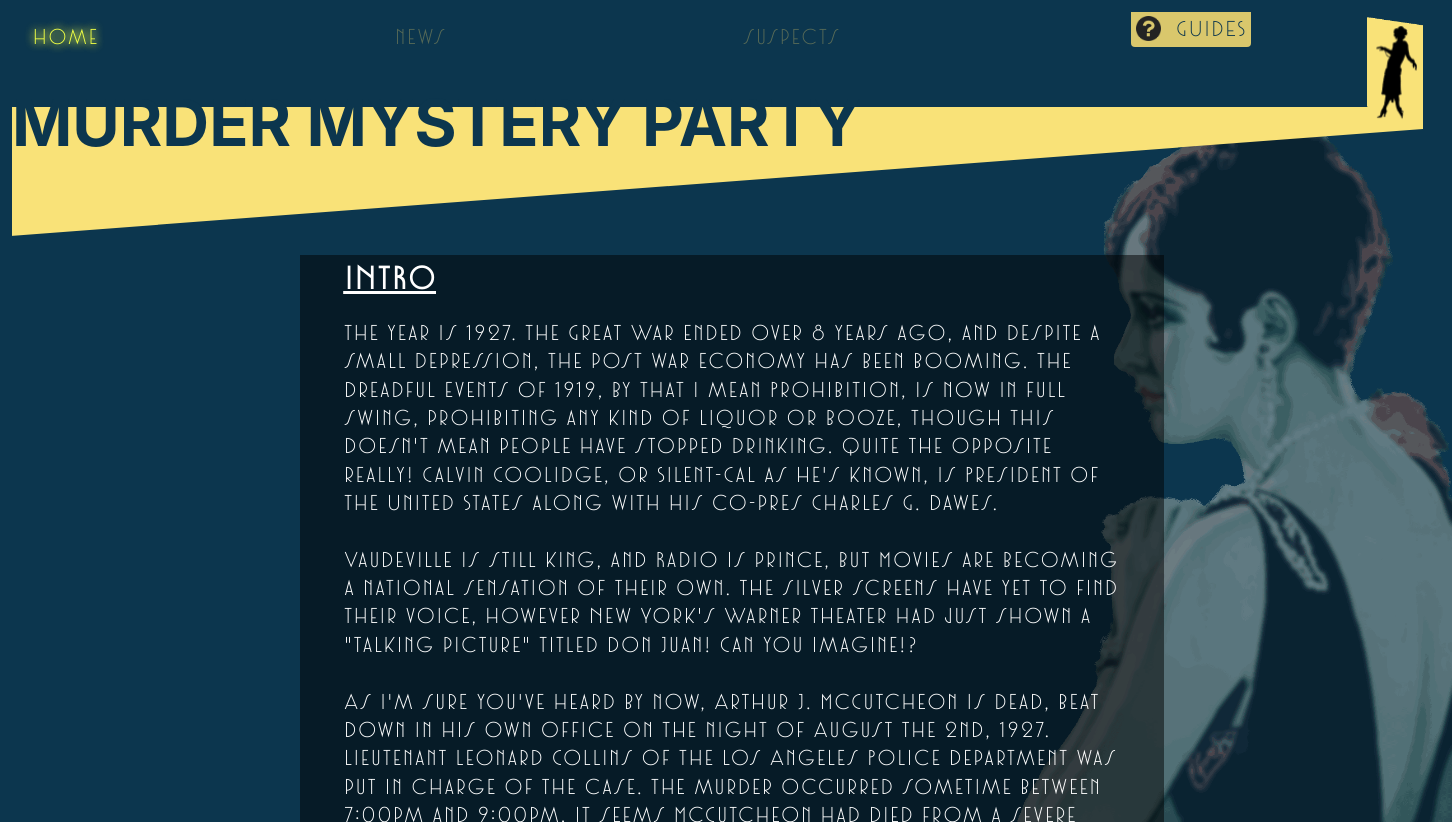
Test: The Suspects Component › should open secret info on character when correct password entered
Changes content to suspects page
Click the button with test id "nav-suspects" at (791,36), box [737, 18, 845, 54]
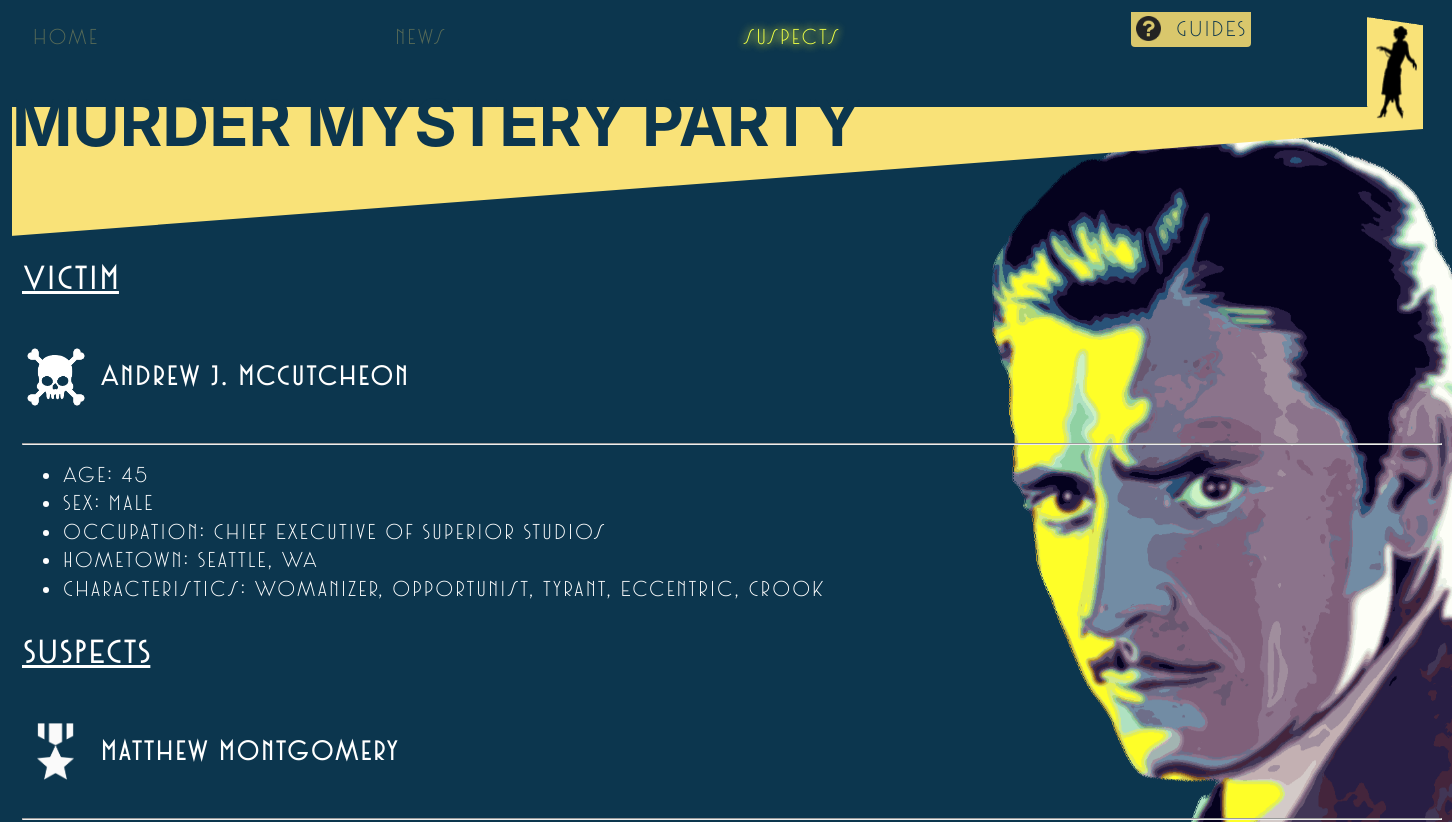
Click the button with class "character-title" showing "Matthew Montgomery" at (213,752), box [22, 694, 403, 810]
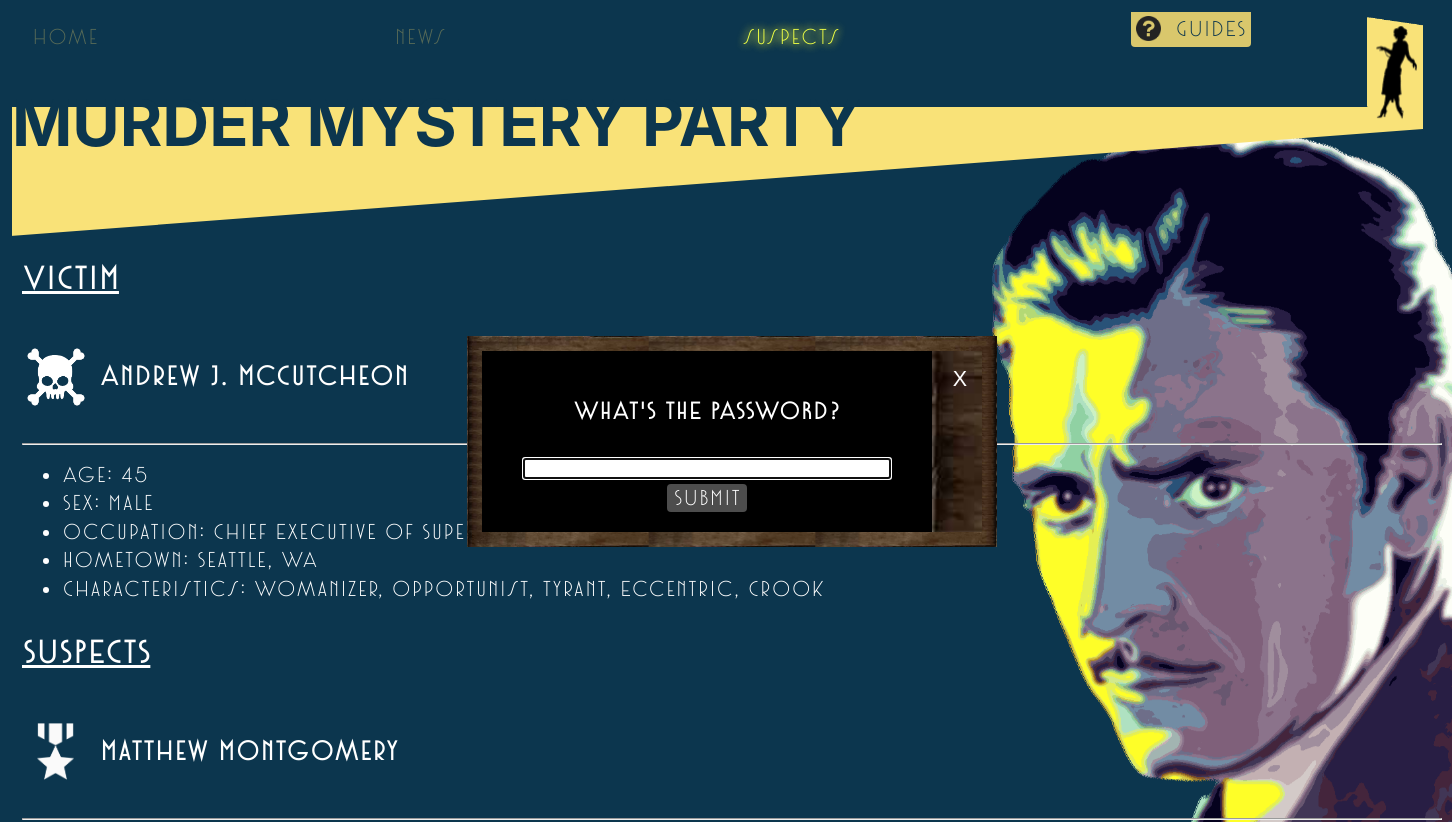
Type "shhh" into the field named "password-input" at (707,468), box [523, 458, 891, 479]
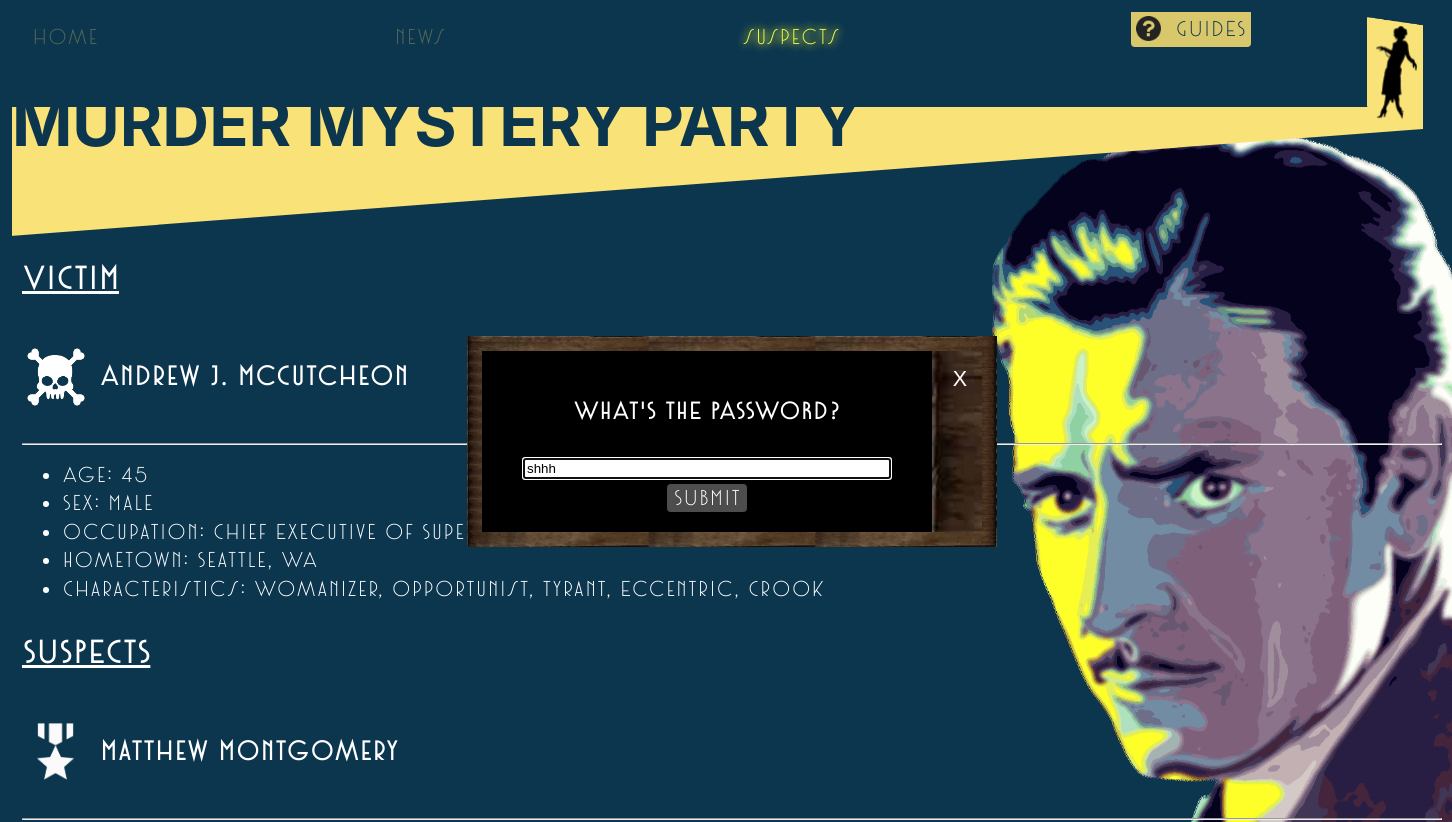
Click the button with class "modal-submit" at (707,498), box [667, 484, 746, 512]
(page scrolled)
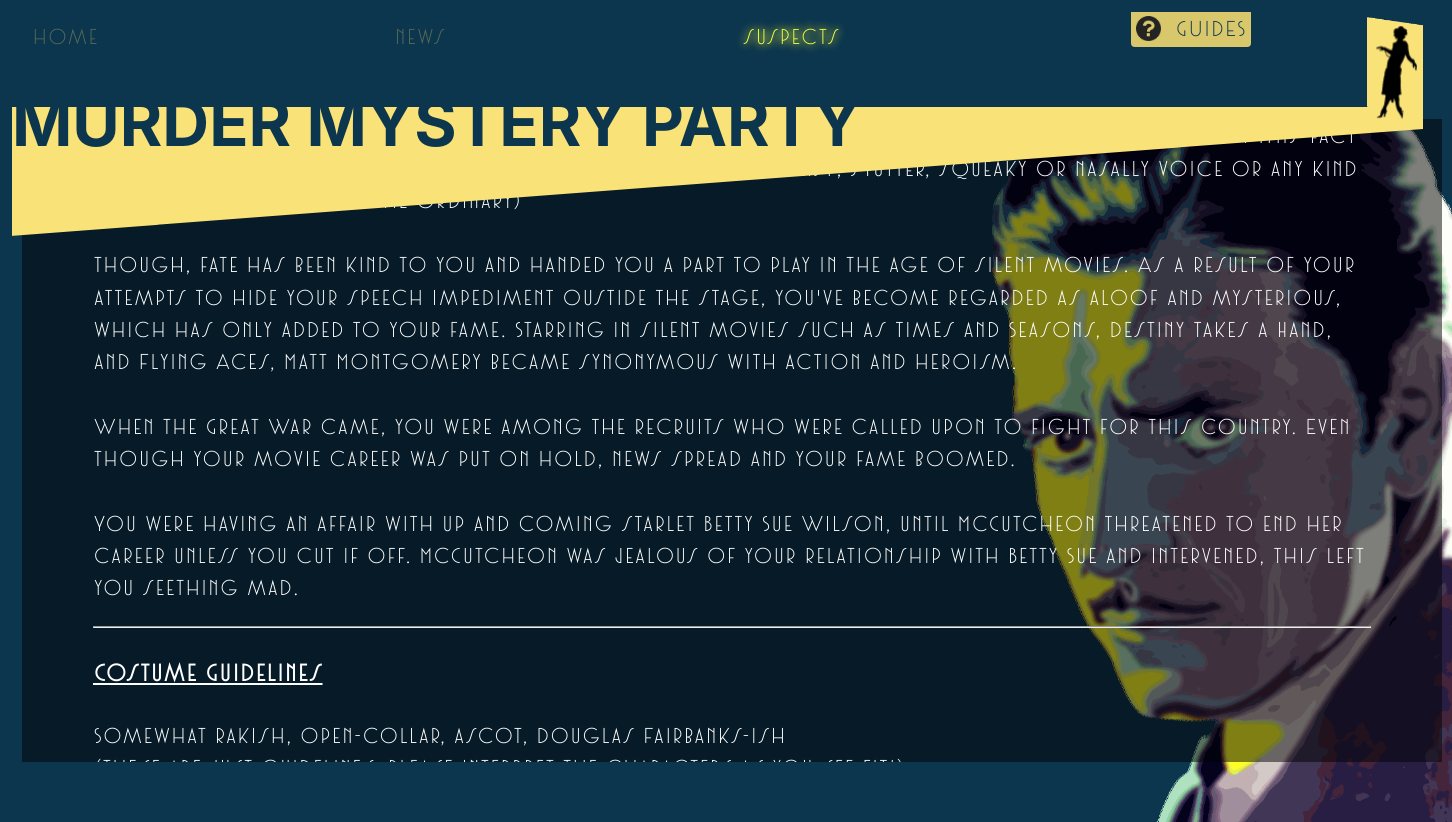
Result: the element with class "open" is shown
